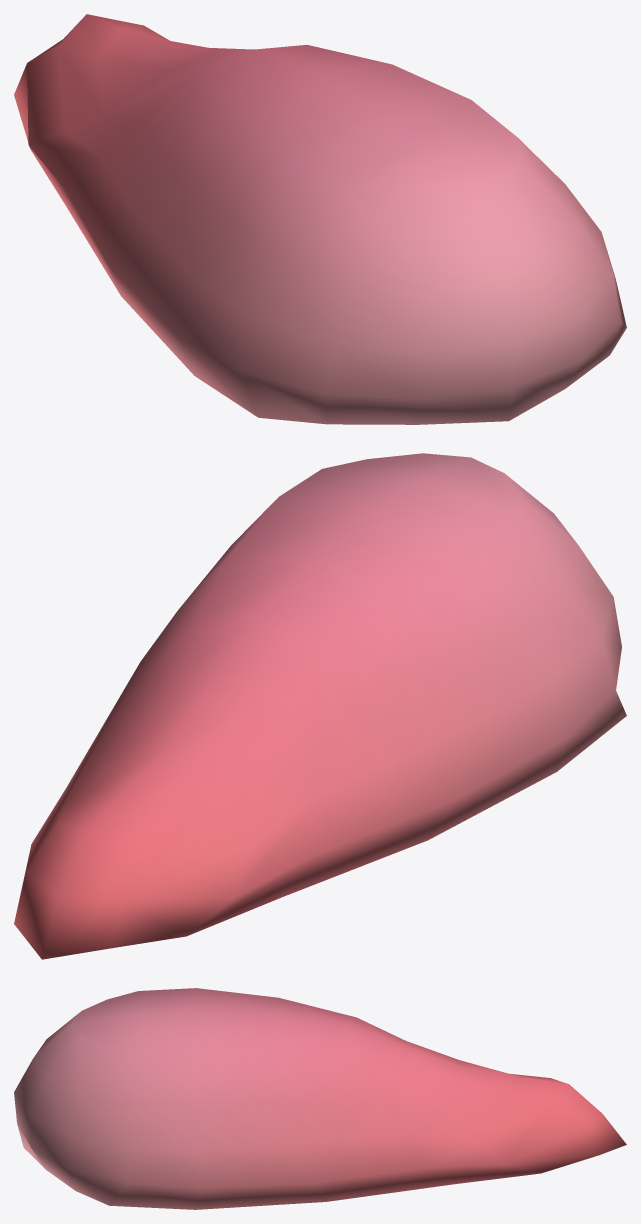
The model's file is fillet_001.fbx.
The picture shows the model from 3 angles, top to bottom: view 1: azimuth 30°, elevation 25°; view 2: azimuth 150°, elevation 25°; view 3: azimuth 270°, elevation 25°; orthographic projection. The views are drawn at different scales.
Visible parts, largest first — view 1: fillet_001; view 2: fillet_001; view 3: fillet_001.
Boxes of the visible parts, x1,y1,x2,y2 form: fillet_001: (14,14,626,424); fillet_001: (14,453,626,959); fillet_001: (14,988,626,1209).
Bounding box in the file's own units: 6.19 × 13.1 × 3.54.
